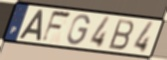4: (87, 15, 112, 50), (131, 20, 155, 55)
A: (18, 9, 44, 42)
B: (107, 18, 136, 51)
F: (39, 10, 73, 44)
G: (66, 13, 91, 46)
